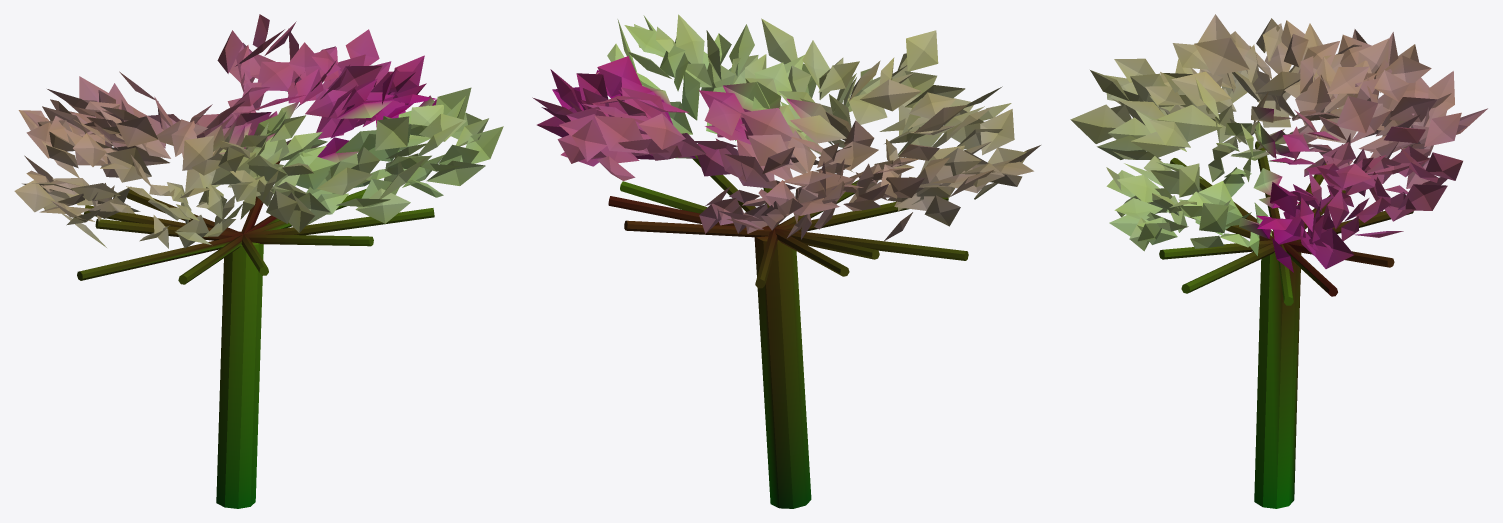
File: mature_savanna_02.glb
3 views of the same model, side by side, from view 1: azimuth 30°, elevation 25°; view 2: azimuth 150°, elevation 25°; view 3: azimuth 270°, elevation 25° (orthographic). The views are drawn at different scales.
Visible parts, largest first — view 1: mature_savanna_02; view 2: mature_savanna_02; view 3: mature_savanna_02.
Part boxes in pixels (box(x1,y1,x2,y2)): mature_savanna_02: box(14, 14, 503, 508); mature_savanna_02: box(532, 14, 1040, 508); mature_savanna_02: box(1070, 14, 1487, 508).
Size of the model in its own units: 12.17 by 10.54 by 9.78.
